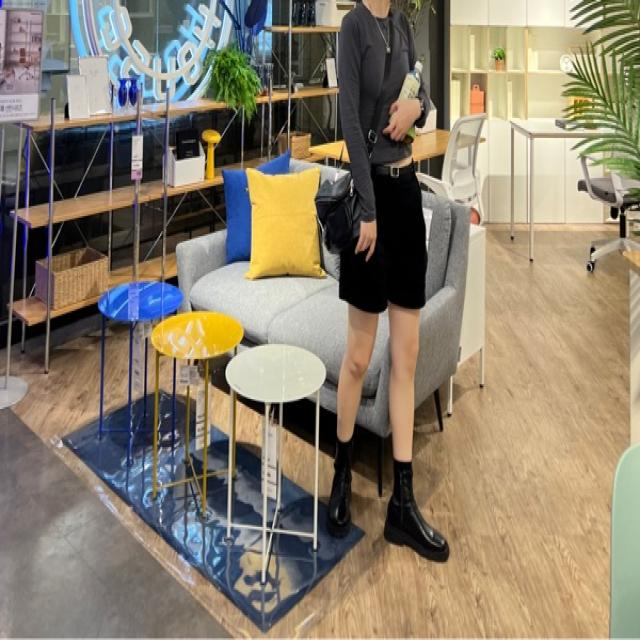longsleeve: (337, 0, 430, 225)
shortpants: (336, 160, 428, 318)
